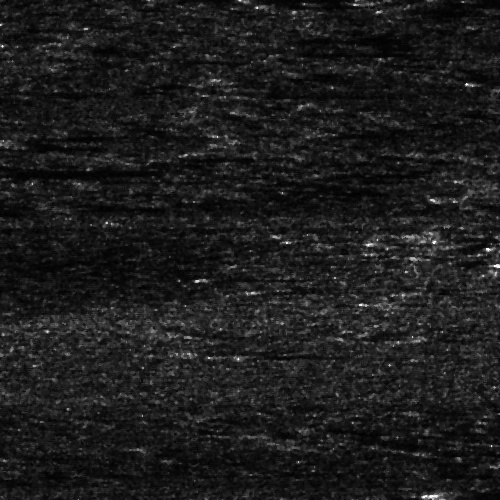object: (214, 87, 267, 104), (0, 163, 31, 176), (447, 190, 478, 201), (219, 352, 272, 357), (301, 496, 342, 500), (491, 259, 500, 264)
shadow: (241, 87, 400, 104), (0, 163, 109, 176), (246, 352, 361, 357), (462, 190, 500, 201), (321, 496, 380, 500), (0, 451, 45, 456)
